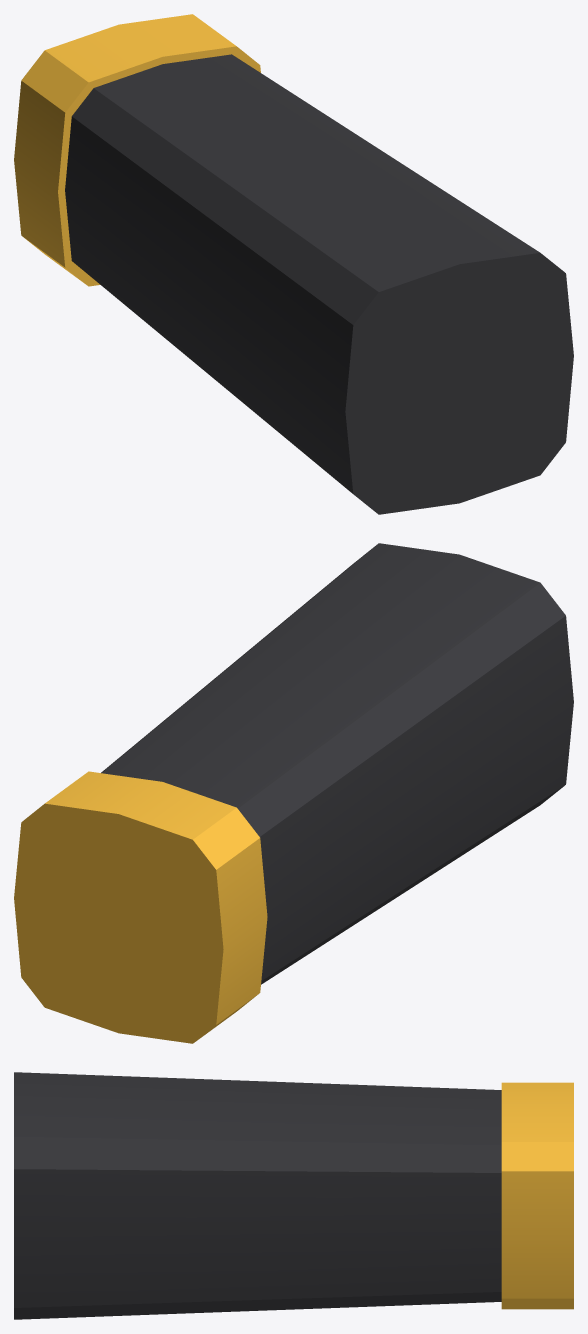
File: mini.glb
3 views of the same model, one above another, from view 1: azimuth 30°, elevation 25°; view 2: azimuth 150°, elevation 25°; view 3: azimuth 270°, elevation 25° (orthographic). The views are drawn at different scales.
Visible parts, largest first — view 1: lod0; view 2: lod0; view 3: lod0.
Part boxes in pixels (x1=…): lod0: x1=14, y1=14, x2=573, y2=514; lod0: x1=14, y1=543, x2=573, y2=1043; lod0: x1=14, y1=1072, x2=573, y2=1319.
Size of what is drawn, in the model's own units: 0.012 by 0.012 by 0.031.
